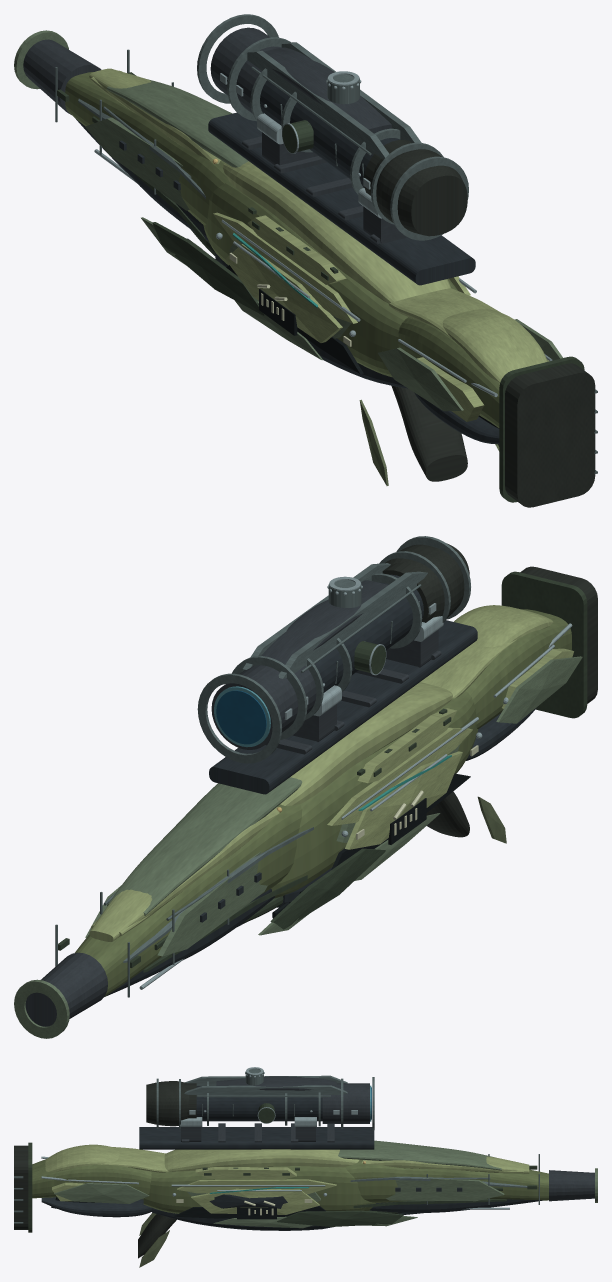
File: CROSSFire_AWP01_ArtPass_10_Performance.glb
3 views of the same model, one above another, from view 1: azimuth 30°, elevation 25°; view 2: azimuth 150°, elevation 25°; view 3: azimuth 270°, elevation 25° (orthographic). The views are drawn at different scales.
Visible parts, largest first — view 1: AWP01_ArtPass_10_cosmetic; view 2: AWP01_ArtPass_10_cosmetic; view 3: AWP01_ArtPass_10_cosmetic.
Boxes of the visible parts, bbox=[...] form: AWP01_ArtPass_10_cosmetic: bbox=[14, 14, 597, 507]; AWP01_ArtPass_10_cosmetic: bbox=[14, 536, 597, 1038]; AWP01_ArtPass_10_cosmetic: bbox=[14, 1067, 597, 1267].
Bounding box in the file's own units: 0.324 × 0.7291 × 2.09.
1 material, 1 textured.
